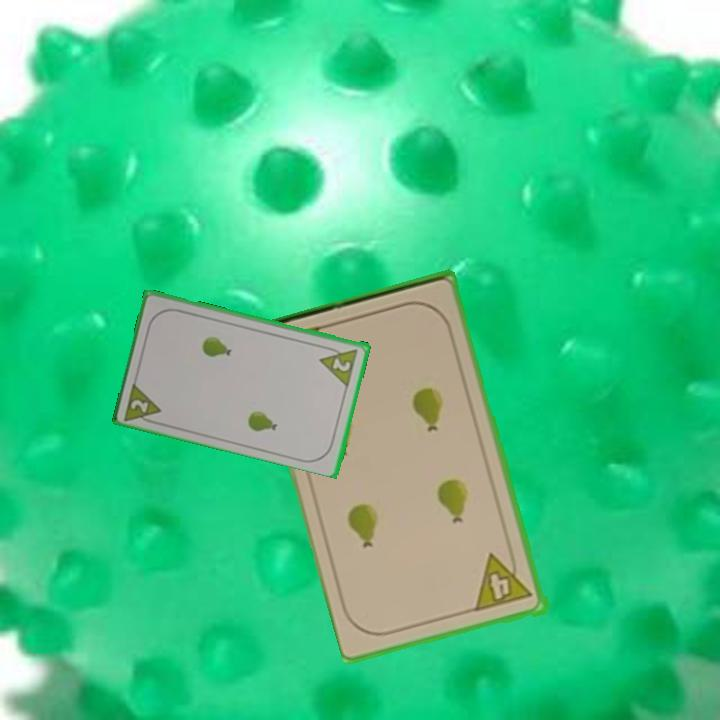2p: (121, 378, 165, 428), (329, 354, 354, 374)
4p: (472, 546, 537, 614)
